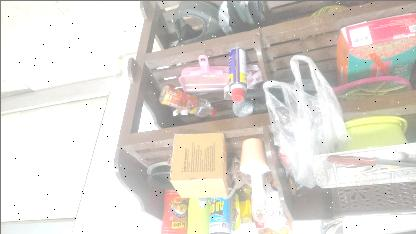Others: (239, 138, 267, 174)
Plastic Bottle: (158, 83, 215, 115)
